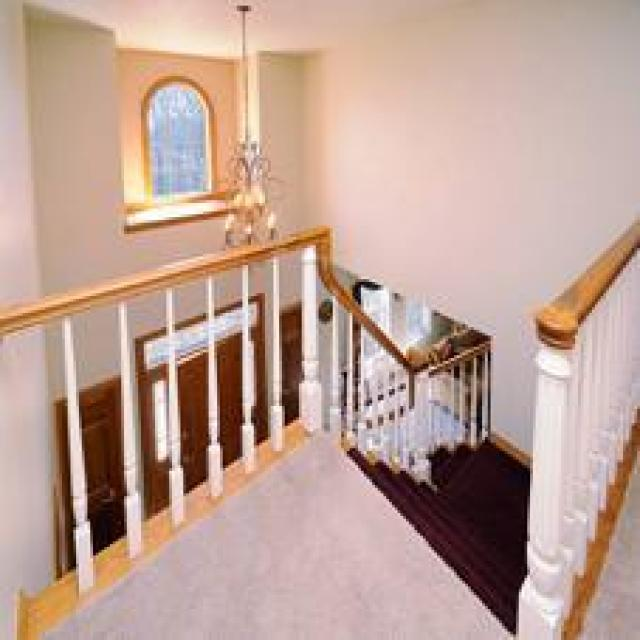downstair: (309, 348, 543, 599)
